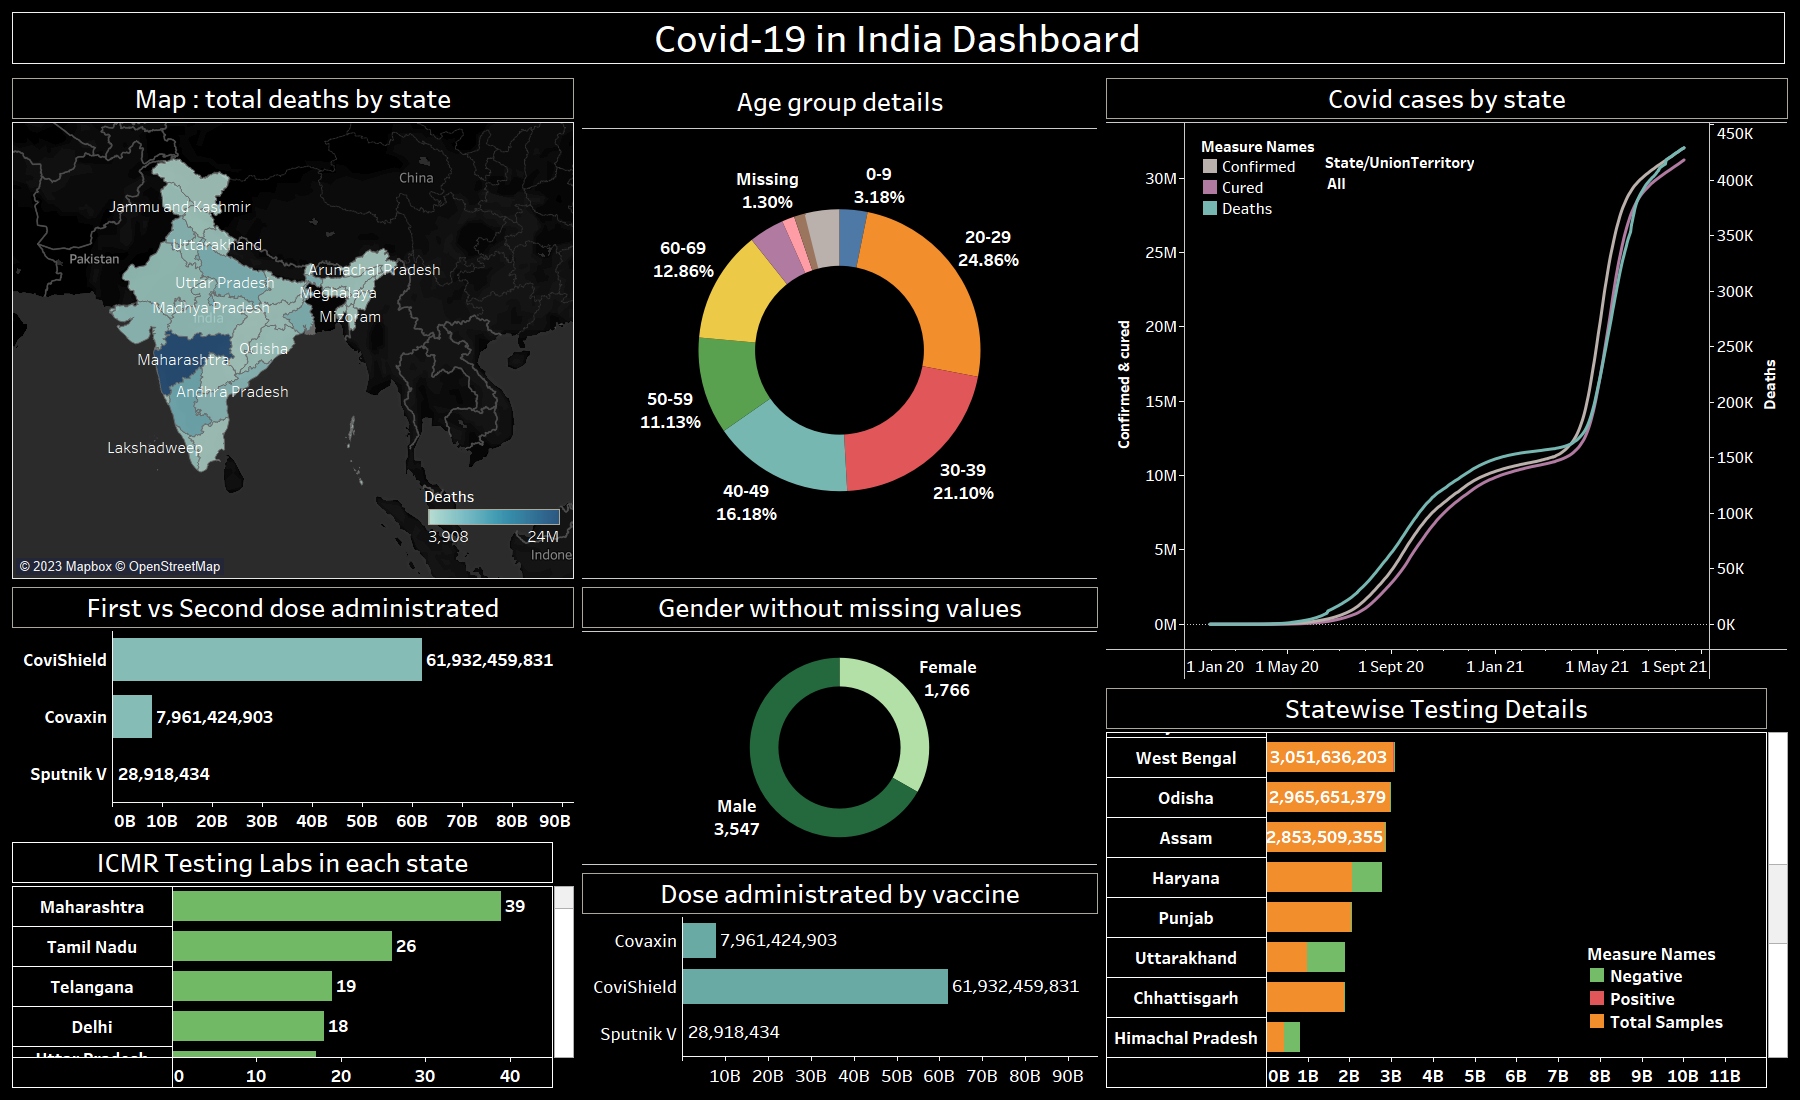

Layout of this report page (visuals, bound fields, positions):
{"tool":"tableau","page":{"name":"Covid-19 in India","canvas":[1800,1100],"ordinal":0},"visuals":[{"type":"worksheet","title":"Title","mark":"Automatic","box":[8,8,1784,66]},{"type":"worksheet","title":"Map : total deaths by state","mark":"Automatic","box":[8,74,570,509]},{"type":"worksheet","title":"Age group details","mark":"Pie","rows":["Calculation_967711003578388501","Calculation_967711003578540055"],"box":[578,74,524,509]},{"type":"worksheet","title":"Covid cases by state","mark":"Automatic","rows":["Deaths"],"cols":["Date"],"box":[1102,74,690,610]},{"type":"legend","title":"Covid cases by state","param":"[federated.055osss0c5zq8m17e5q6c06q6kgz].[:Measure Names]","box":[1200,134,140,85]},{"type":"filter","title":"Covid cases by state","param":"[federated.055osss0c5zq8m17e5q6c06q6kgz].[none:State/UnionTerritory:nk]","box":[1321,147,157,57]},{"type":"legend","title":"Map : total deaths by state","param":"[federated.055osss0c5zq8m17e5q6c06q6kgz].[sum:Deaths:qk]","box":[424,482,140,88]},{"type":"worksheet","title":"First vs Second dose administrated","mark":"Automatic","box":[8,583,570,254.5]},{"type":"worksheet","title":"Gender without missing values","mark":"Pie","rows":["Calculation_967711003582029849","Calculation_967711003582029849"],"box":[578,583,524,286]},{"type":"worksheet","title":"Statewise Testing Details","mark":"Automatic","rows":["State"],"box":[1102,684,690,408]},{"type":"worksheet","title":"ICMR Testing Labs in each state","mark":"Automatic","rows":["state"],"cols":["lab"],"box":[8,837.5,570,254.5]},{"type":"worksheet","title":"Dose administrated by vaccine","mark":"Automatic","box":[578,869,524,223]},{"type":"legend","title":"Statewise Testing Details","param":"[federated.1eu9buw1euwvjy1clih1t0plhe92].[:Measure Names]","box":[1586,940,144,98]}]}

Visuals, with their boxes in screenshot pixels (x1, y1, x2, y2), scaled from the page's 1800x1100 canvas onto the 1800x1100 screenshot:
"Title" worksheet: rect(8, 8, 1792, 74)
"Map : total deaths by state" worksheet: rect(8, 74, 578, 583)
"Age group details" worksheet (Pie marks): rect(578, 74, 1102, 583)
"Covid cases by state" worksheet: rect(1102, 74, 1792, 684)
"Covid cases by state" legend: rect(1200, 134, 1340, 219)
"Covid cases by state" filter: rect(1321, 147, 1478, 204)
"Map : total deaths by state" legend: rect(424, 482, 564, 570)
"First vs Second dose administrated" worksheet: rect(8, 583, 578, 838)
"Gender without missing values" worksheet (Pie marks): rect(578, 583, 1102, 869)
"Statewise Testing Details" worksheet: rect(1102, 684, 1792, 1092)
"ICMR Testing Labs in each state" worksheet: rect(8, 838, 578, 1092)
"Dose administrated by vaccine" worksheet: rect(578, 869, 1102, 1092)
"Statewise Testing Details" legend: rect(1586, 940, 1730, 1038)
